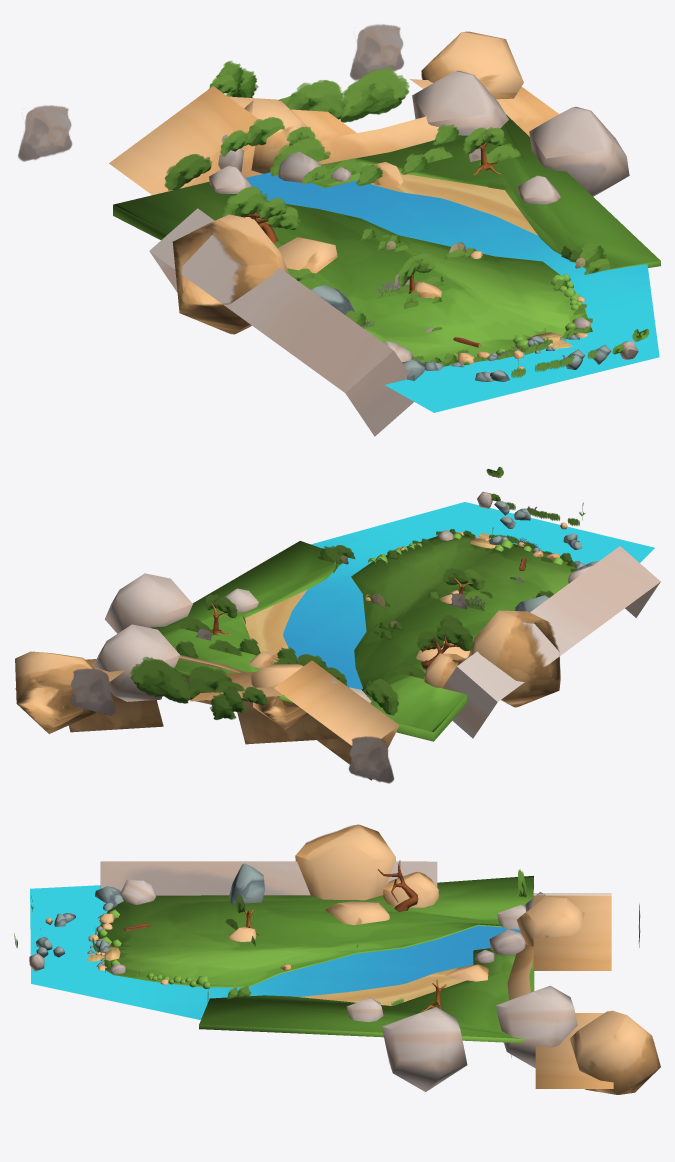
File: LakeMap.glb
3 views of the same model, one above another, from view 1: azimuth 30°, elevation 25°; view 2: azimuth 150°, elevation 25°; view 3: azimuth 270°, elevation 25° (orthographic). The views are drawn at different scales.
Visible parts, largest first — view 1: Plane, Plane.001, Cube.026, Plane.005, Cube.010, Icosphere.003, Icosphere.029, Icosphere.057, Icosphere.017, Plane.007, Cube.019, bush2.044 (+15 smaller); view 2: Plane, Plane.001, Cube.026, Plane.005, Cube.010, Icosphere.003, Icosphere.017, Icosphere.029, Icosphere.057, Cube.012, Cube.013, bush2.044 (+10 smaller); view 3: Plane, Plane.001, Plane.005, Cube.026, Icosphere.003, Icosphere.017, Icosphere.029, Cube.012, Icosphere.057, Cube.013, Icosphere.006, Plane.007 (+10 smaller).
Part boxes in pixels (x1,y1,x2,y2): Plane: (113,181,590,365); Plane.001: (246,172,659,412); Cube.026: (149,208,413,436); Plane.005: (310,114,660,270); Cube.010: (109,86,260,195); Icosphere.003: (172,214,289,334); Icosphere.029: (529,106,629,196); Icosphere.057: (412,70,508,135); Icosphere.017: (421,31,523,99); Plane.007: (370,173,537,235); Cube.019: (318,116,439,164); bush2.044: (340,66,409,122); Plane: (351,535,578,741); Plane.001: (283,502,654,689); Cube.026: (442,546,660,738); Plane.005: (151,541,341,702); Cube.010: (274,660,399,780); Icosphere.003: (468,610,560,707); Icosphere.017: (15,651,95,733); Icosphere.029: (105,573,192,633); Icosphere.057: (94,624,179,701); Cube.012: (190,672,338,744); Cube.013: (14,659,163,732); bush2.044: (130,657,191,703); Plane: (96,875,533,987); Plane.001: (30,885,520,1019); Plane.005: (199,948,534,1043); Cube.026: (100,861,437,895); Icosphere.003: (295,824,395,900); Icosphere.017: (570,1010,660,1094); Icosphere.029: (382,1007,467,1091); Cube.012: (533,895,611,970); Icosphere.057: (496,985,577,1068); Cube.013: (535,1013,613,1088); Icosphere.006: (517,896,584,946); Plane.007: (299,967,465,1005).
Size of the model in its own units: 45.87 by 15.11 by 60.2.
Materials: 1 (1 with a texture image).
